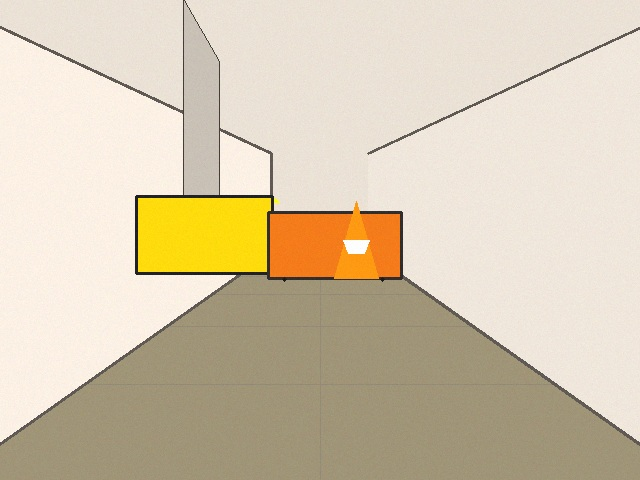cart: (268, 212, 401, 278)
forklift: (136, 196, 279, 273)
obstacle: (334, 201, 378, 278)
